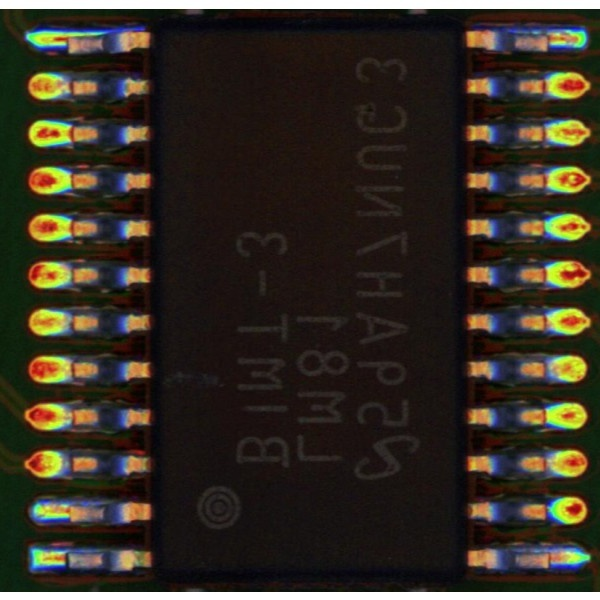Bad_podu: (53, 79, 85, 93), (539, 35, 565, 47), (539, 551, 560, 565), (47, 552, 76, 562), (55, 505, 77, 516), (59, 37, 75, 46)
Bad_qiaojiao: (69, 32, 108, 38)
